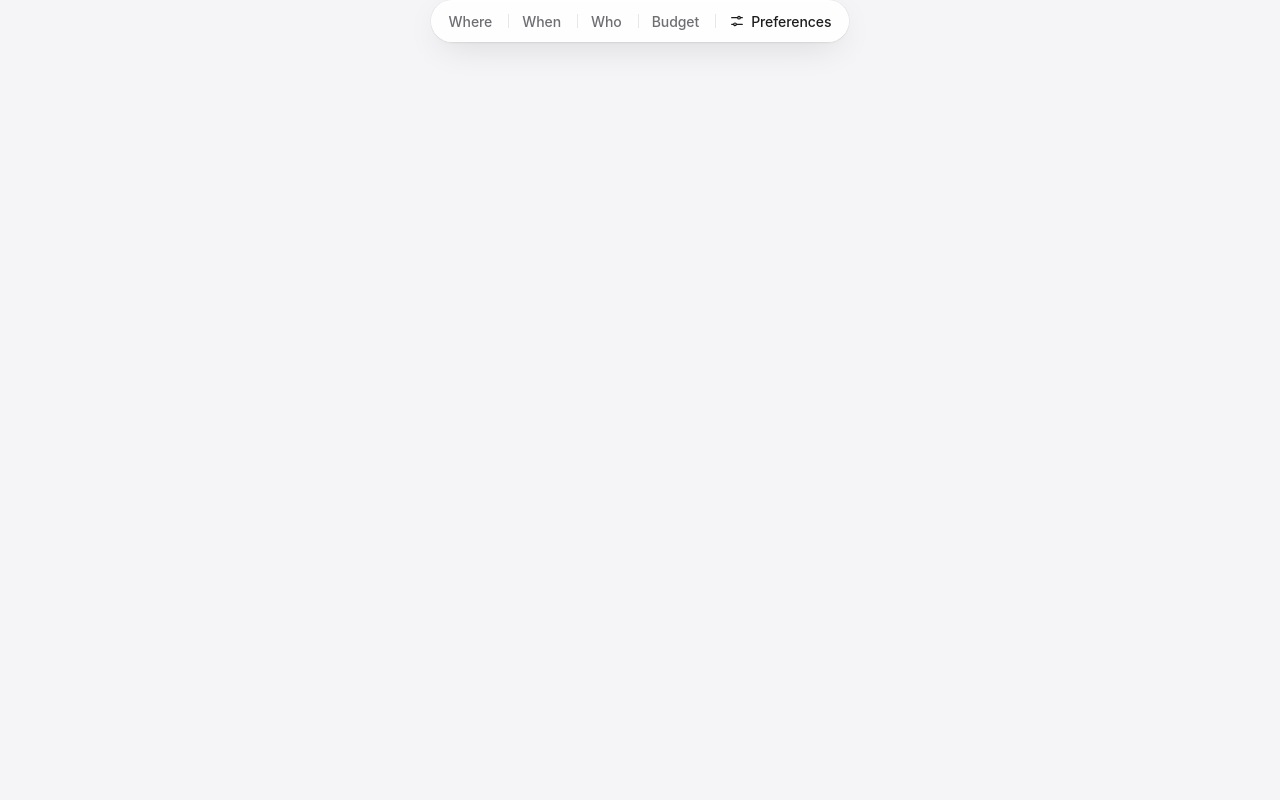
Scenario: TripFactChips › keeps an edit only on Save, and saving without a plan never starts planning
Click the button "Where" at (470, 21), box top-left (435, 4), bottom-right (506, 38)
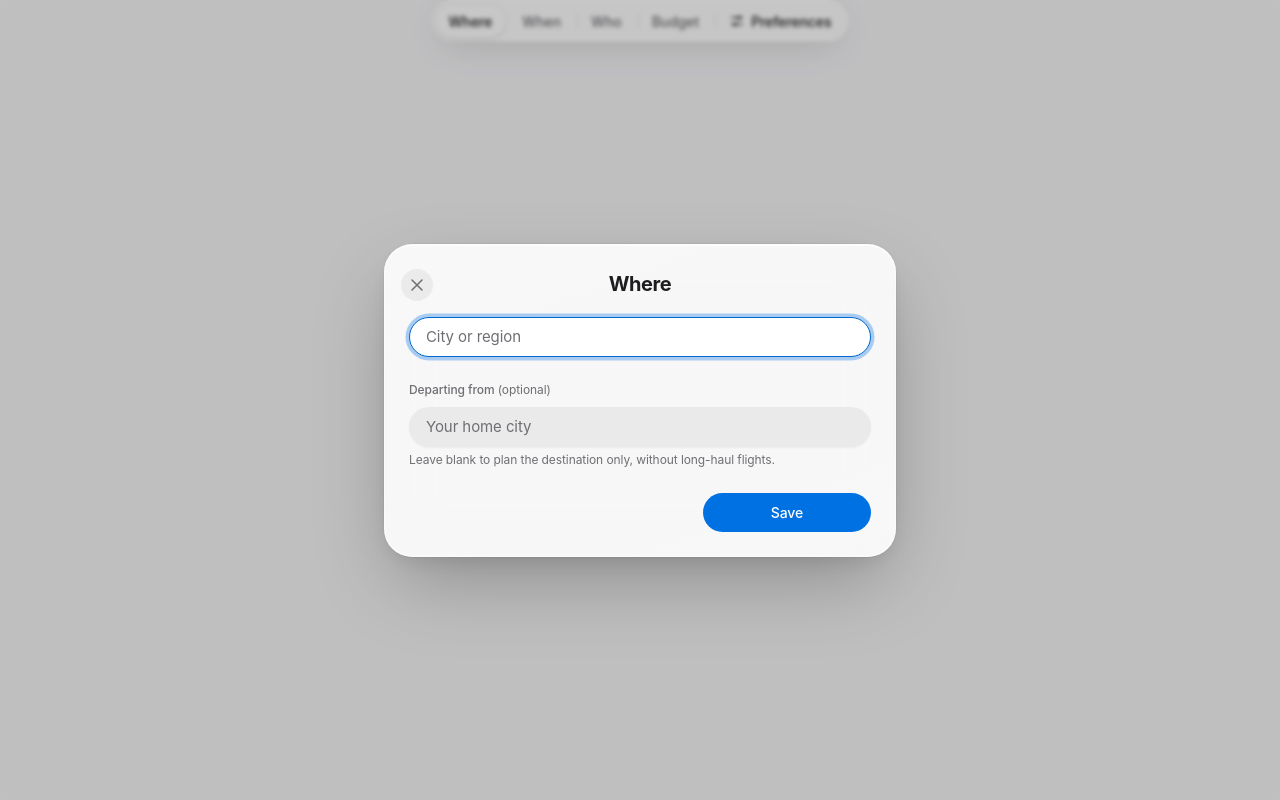
Type "Lisbon" into the field named "Add a destination" at (640, 336), box top-left (409, 316), bottom-right (871, 356)
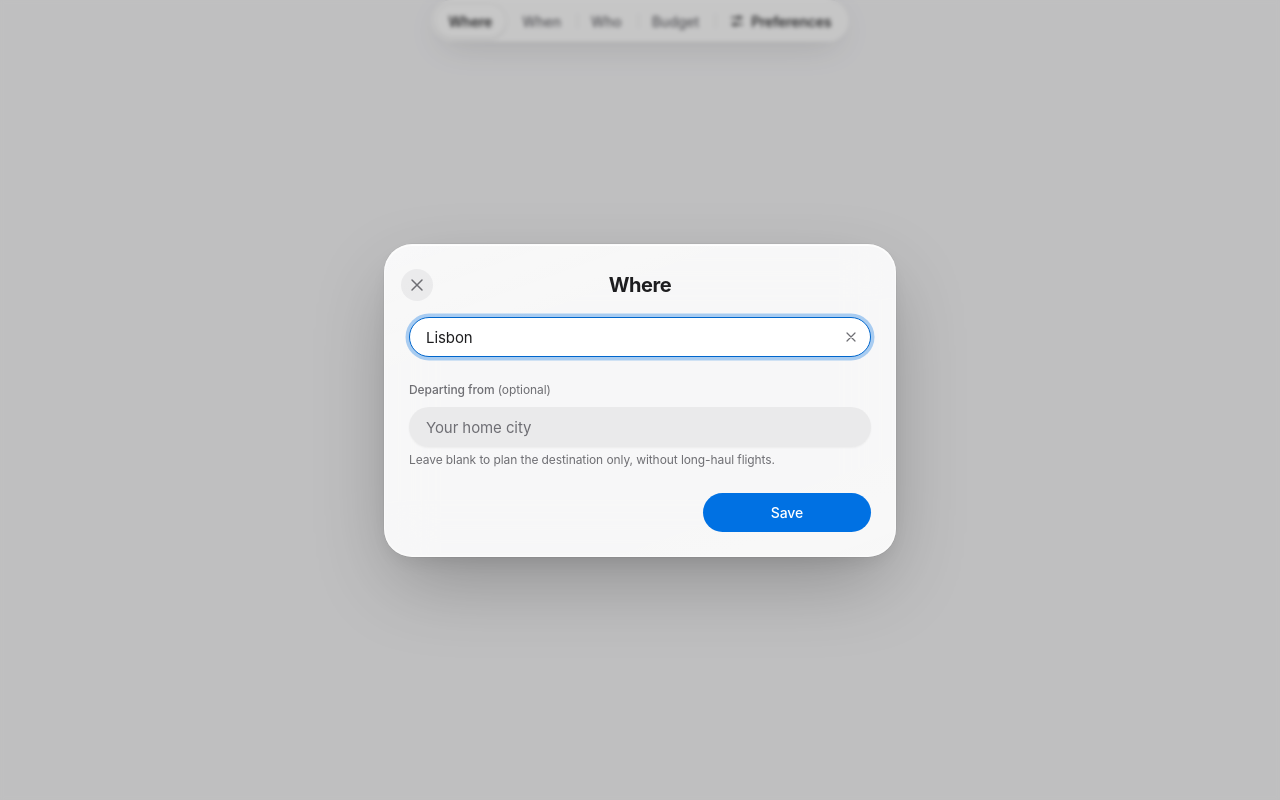
Type "Sydney" into the field labelled "Departing from (optional)" at (640, 426), box top-left (409, 406), bottom-right (871, 446)
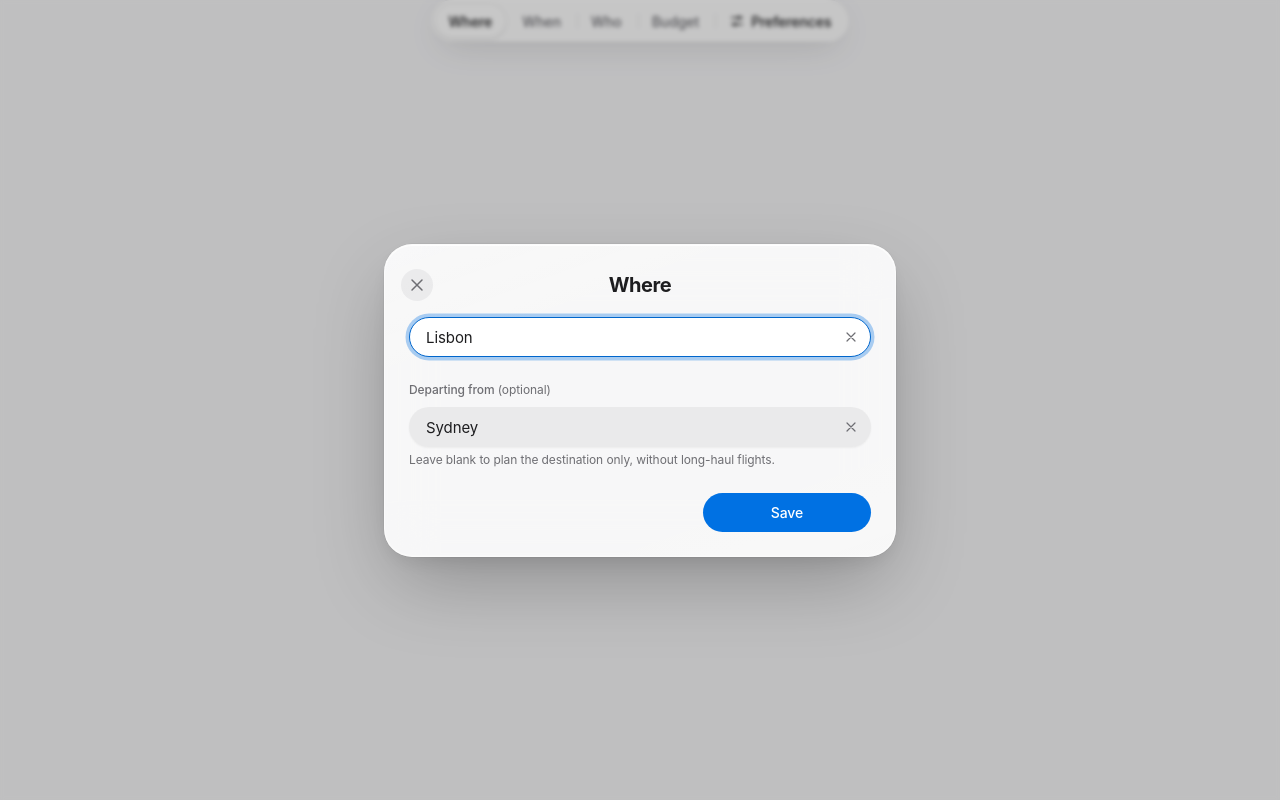
Click the button "Save" at (787, 512), box top-left (703, 492), bottom-right (871, 532)
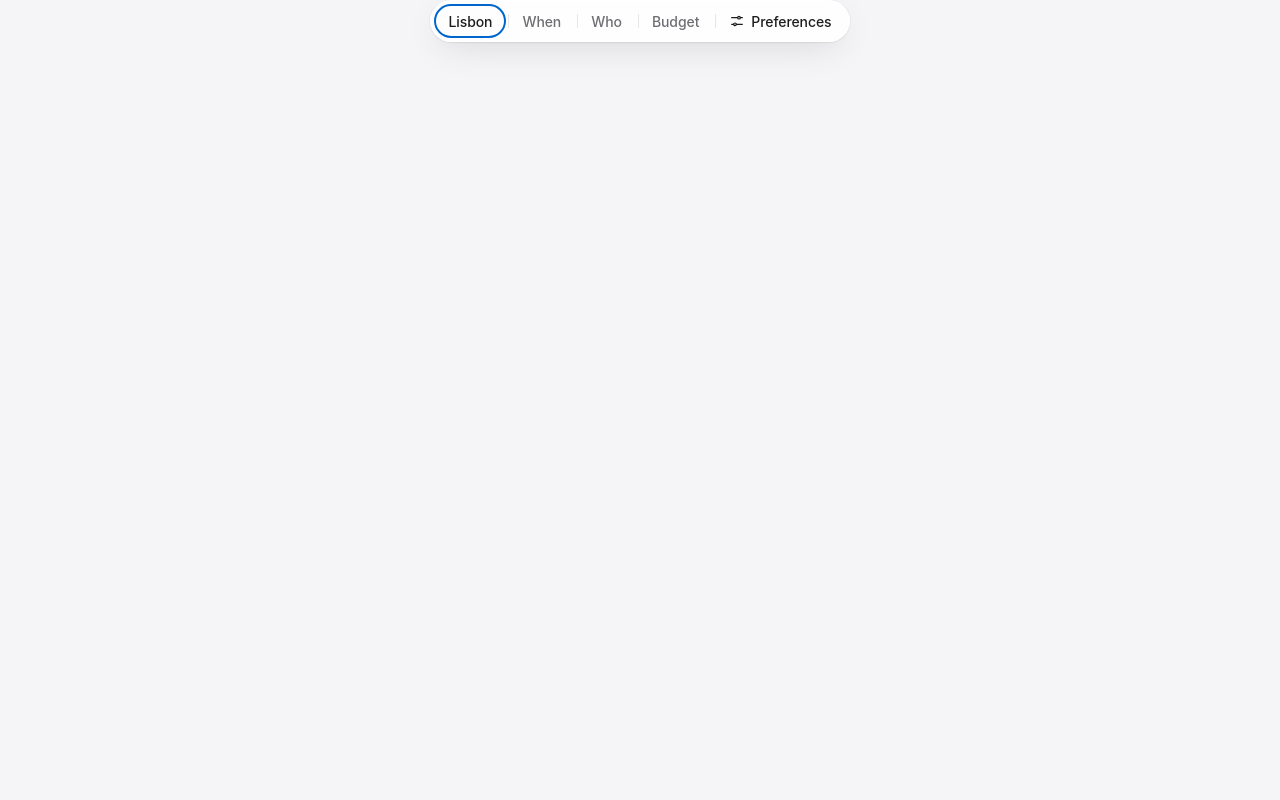
Result: the dialog is gone
